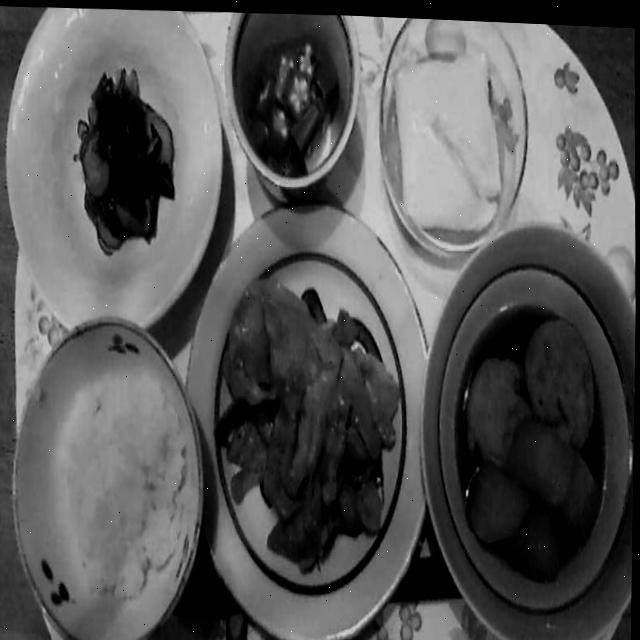米饭主食: (4, 310, 209, 640)
